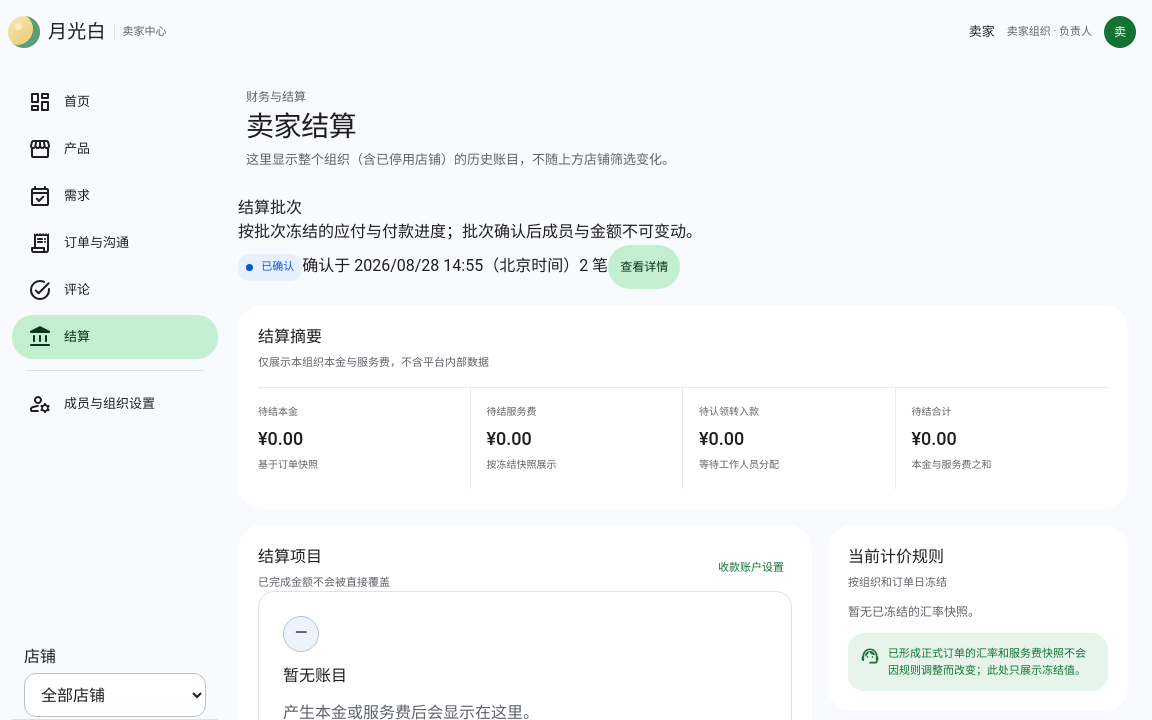
seller settlement batch detail (7.5R-2) › navigates from the batch list to the read-only detail
The image size is (1152, 720).
Click the link "查看详情" at x=644, y=267, box [608,245,680,289]
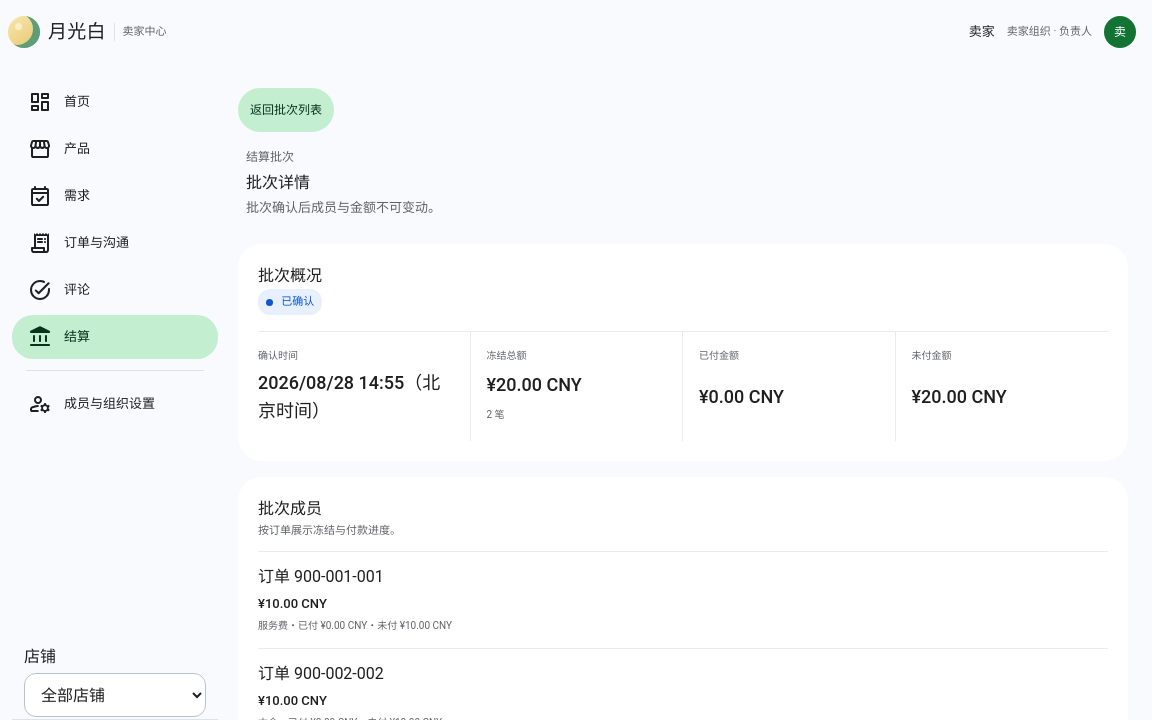
Result: the heading "批次概况" is shown at [258,264,322,289]
Result: the heading "批次成员" is shown at [258,499,322,518]
Result: the text "订单 900-001-001" is shown at [258,567,384,586]
